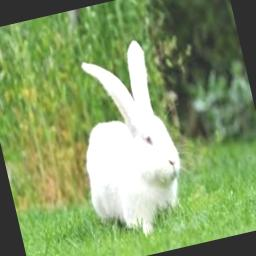rabbit: (81, 39, 180, 234)
